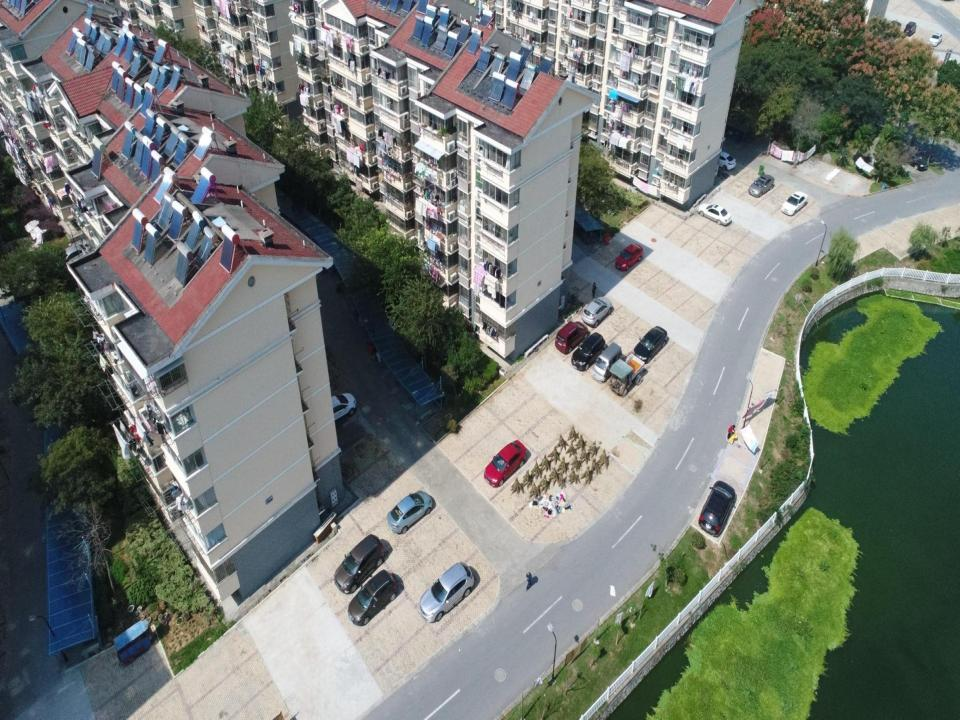car: (419, 562, 474, 622), (348, 570, 396, 624), (698, 480, 736, 536), (484, 440, 527, 488), (385, 492, 433, 532), (572, 333, 605, 371), (634, 326, 667, 364), (555, 320, 588, 355), (321, 393, 356, 423), (581, 296, 612, 327), (697, 202, 731, 226), (615, 243, 643, 271), (747, 173, 775, 197), (781, 192, 808, 216), (903, 148, 927, 172), (711, 148, 736, 171), (904, 21, 916, 37), (888, 19, 900, 33), (930, 33, 942, 46)
truck: (610, 353, 644, 398)
van: (592, 342, 621, 382)
